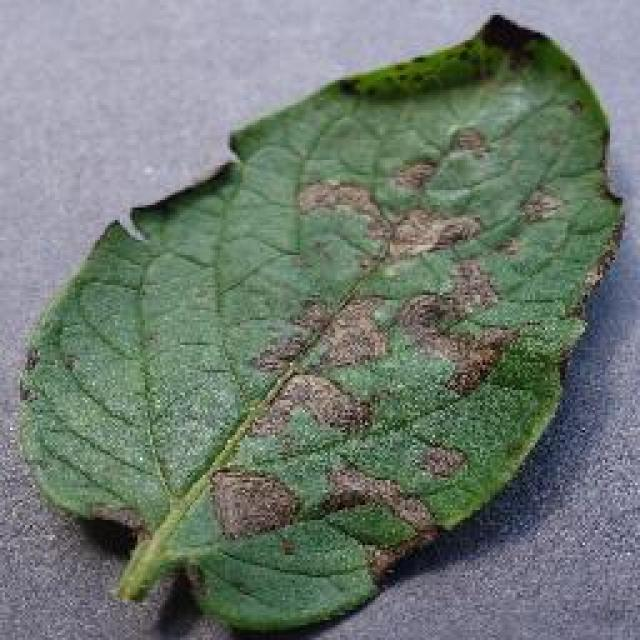green waste: (31, 5, 634, 626)
